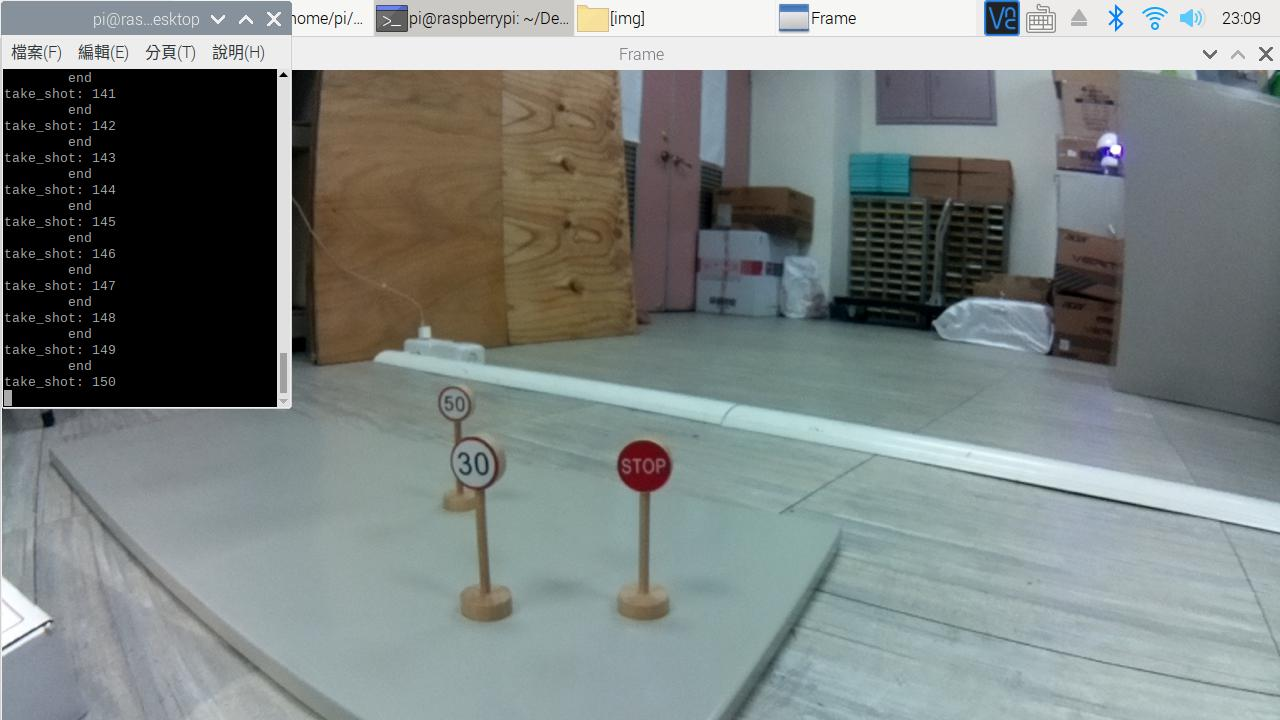Speed30: (438, 434, 521, 494)
Speed50: (435, 381, 481, 436)
Stop: (611, 430, 676, 496)
